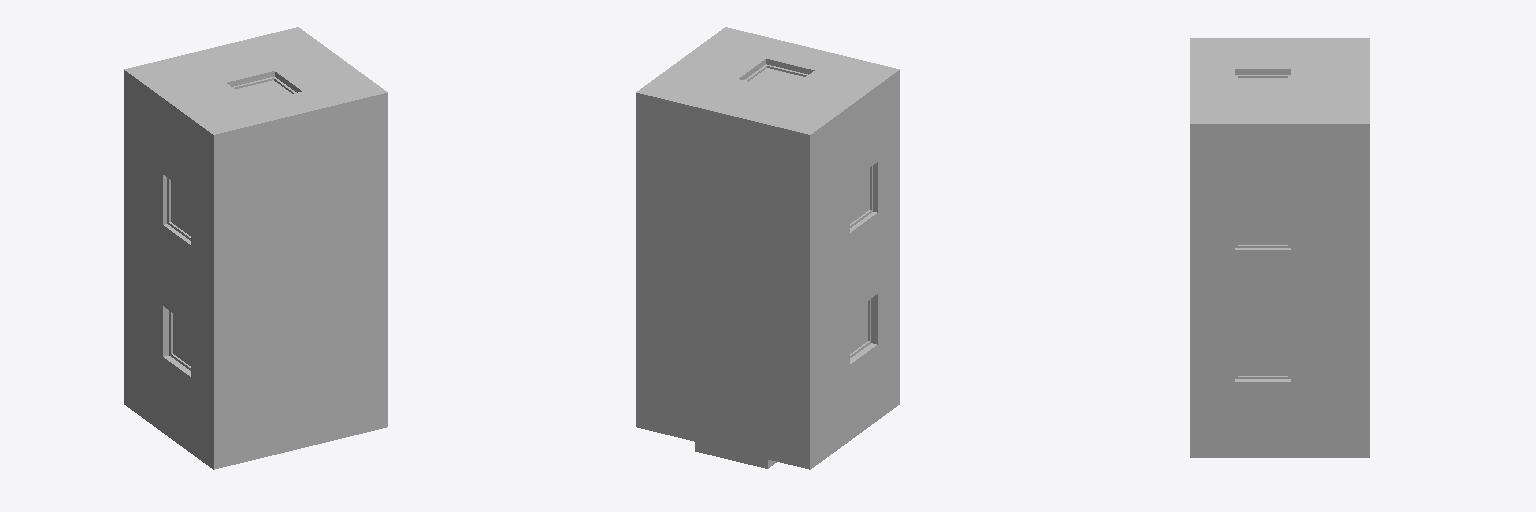
The model's file is Raum 1.obj.
3 renders of one model, left to right at view 1: azimuth 30°, elevation 25°; view 2: azimuth 150°, elevation 25°; view 3: azimuth 270°, elevation 25°, orthographic.
Parts seen in each view (by area): view 1: Decke, Wand, Boden, Fenster002, Fenster004, Fenster003; view 2: Boden, Wand, Decke, Fenster002, Fenster004, Fenster003, Quader; view 3: Wand, Boden, Fenster, Fenster001, Decke, Fenster003.
Part boxes in pixels (x1,y1,x2,y2): Decke: (208,92,387,469); Wand: (130,31,387,468); Boden: (124,27,302,407); Fenster002: (167,177,190,240); Fenster004: (169,311,190,370); Fenster003: (233,77,296,102); Boden: (636,88,815,469); Wand: (642,27,899,464); Decke: (721,27,899,401); Fenster002: (850,166,872,227); Fenster004: (850,299,870,357); Fenster003: (744,64,807,90); Quader: (695,442,776,468); Wand: (1190,38,1357,457); Boden: (1358,38,1369,457); Fenster: (1235,200,1290,247); Fenster001: (1235,332,1290,378); Decke: (1190,38,1201,457); Fenster003: (1235,75,1290,92).
Size of the model in its own units: 3600 by 6900 by 3200.